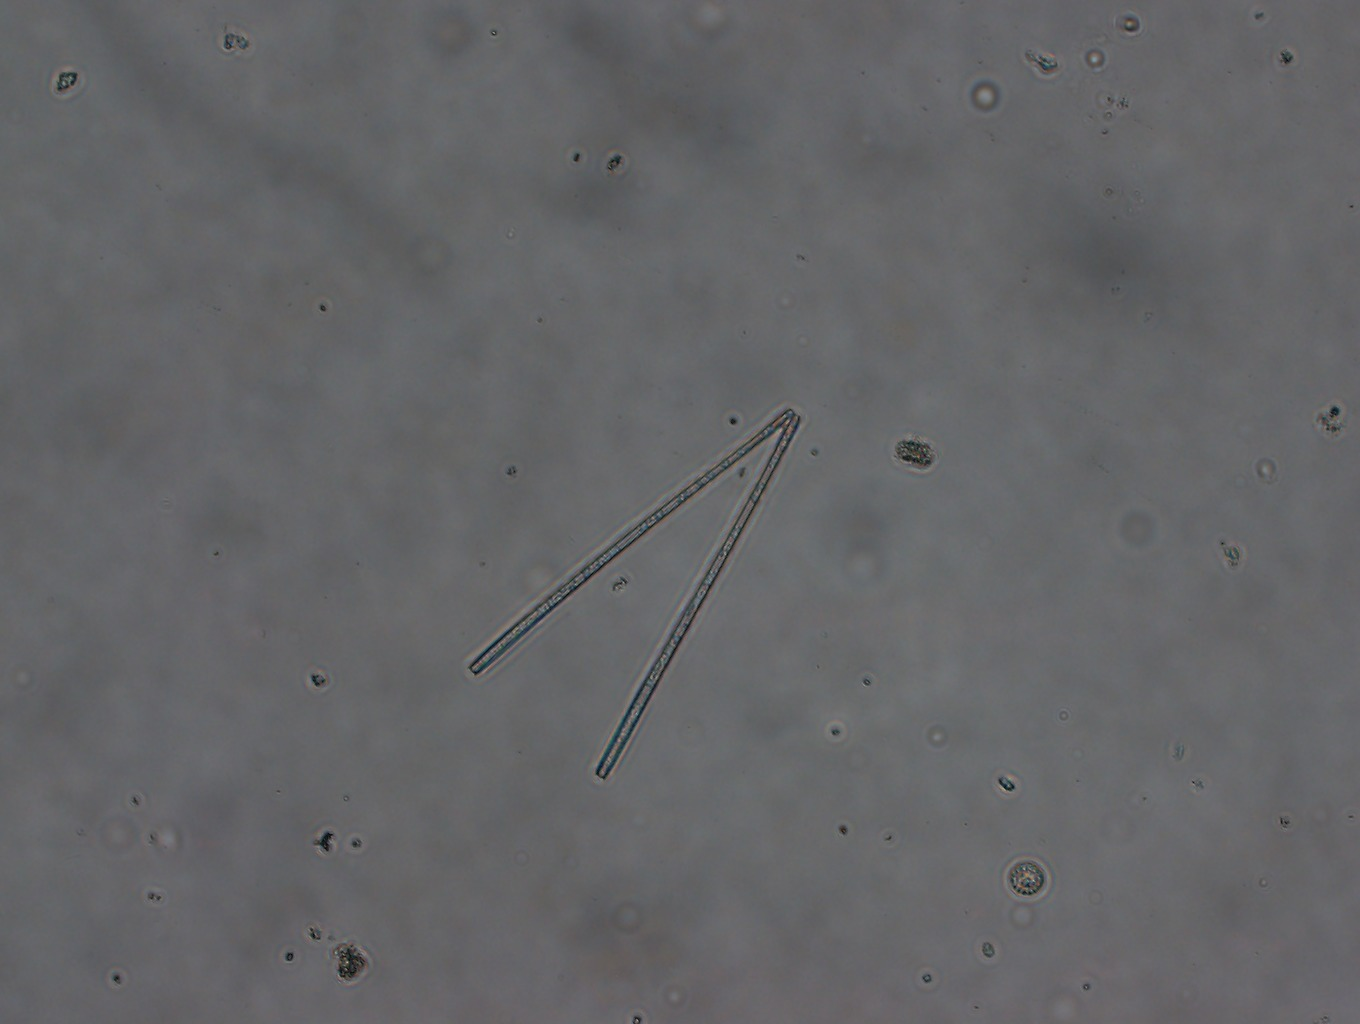thalassionema frauenfeldii: (463, 396, 802, 794)
